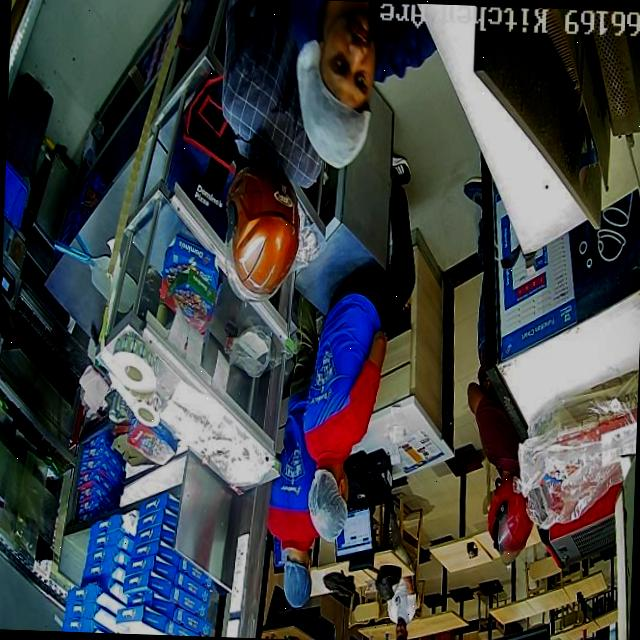helmet: (226, 160, 302, 303)
